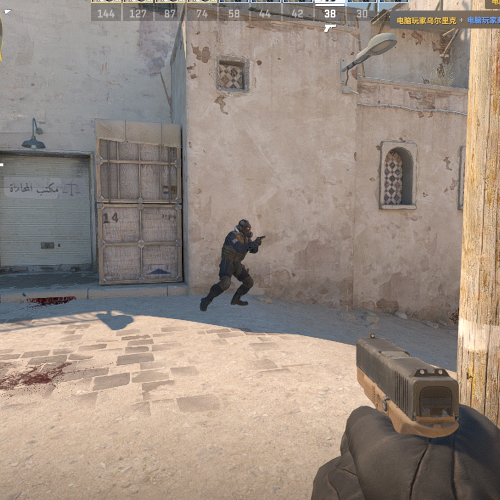ct_body: (204, 220, 256, 309)
ct_head: (238, 219, 252, 235)
